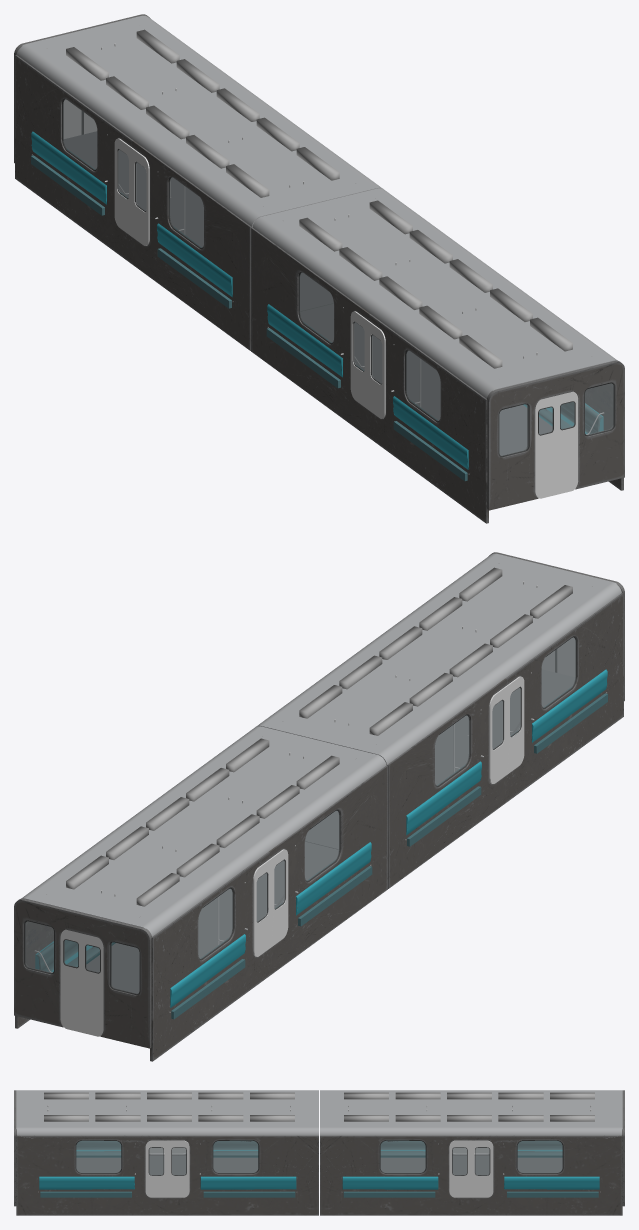
Rendered from train.glb.
3 views of the same model, one above another, from view 1: azimuth 30°, elevation 25°; view 2: azimuth 150°, elevation 25°; view 3: azimuth 270°, elevation 25° (orthographic). The views are drawn at different scales.
Visible parts, largest first — view 1: m_Roof, m_Walls, m_Glass, m_Metal, m__none, m_Floor, m_Benchinside, m_Bench Under, m_Rubber, m_Bench; view 2: m_Roof, m_Walls, m_Glass, m_Metal, m__none, m_Floor, m_Benchinside, m_Bench Under, m_Rubber, m_Bench; view 3: m_Walls, m_Roof, m_Glass, m_Metal, m_Benchinside, m__none, m_Floor, m_Bench Under, m_Bench, m_Rubber.
Part boxes in pixels (box(x1,y1,x2,y2)): m_Roof: box(17, 15, 617, 398); m_Walls: box(14, 14, 624, 523); m_Glass: box(63, 99, 613, 455); m_Metal: box(66, 29, 572, 368); m__none: box(64, 99, 578, 498); m_Floor: box(64, 131, 552, 455); m_Benchinside: box(31, 131, 603, 469); m_Bench Under: box(31, 155, 467, 481); m_Rubber: box(62, 98, 614, 457); m_Bench: box(67, 149, 601, 433); m_Roof: box(21, 553, 621, 936); m_Walls: box(14, 552, 624, 1061); m_Glass: box(25, 637, 575, 993); m_Metal: box(66, 567, 572, 906); m__none: box(60, 637, 574, 1036); m_Floor: box(86, 669, 574, 993); m_Benchinside: box(35, 669, 607, 1007); m_Bench Under: box(171, 693, 607, 1019); m_Rubber: box(24, 636, 576, 995); m_Bench: box(37, 687, 571, 971); m_Walls: box(14, 1090, 624, 1215); m_Roof: box(16, 1090, 622, 1138); m_Glass: box(76, 1140, 562, 1175); m_Metal: box(44, 1092, 594, 1121); m_Benchinside: box(39, 1150, 599, 1189); m__none: box(145, 1140, 493, 1197); m_Floor: box(76, 1156, 562, 1175); m_Bench Under: box(40, 1191, 598, 1197); m_Bench: box(76, 1141, 562, 1155); m_Rubber: box(75, 1140, 563, 1175).
Size of the model in its own units: 4.22 by 3.89 by 24.22.
13 materials, 3 textured.
